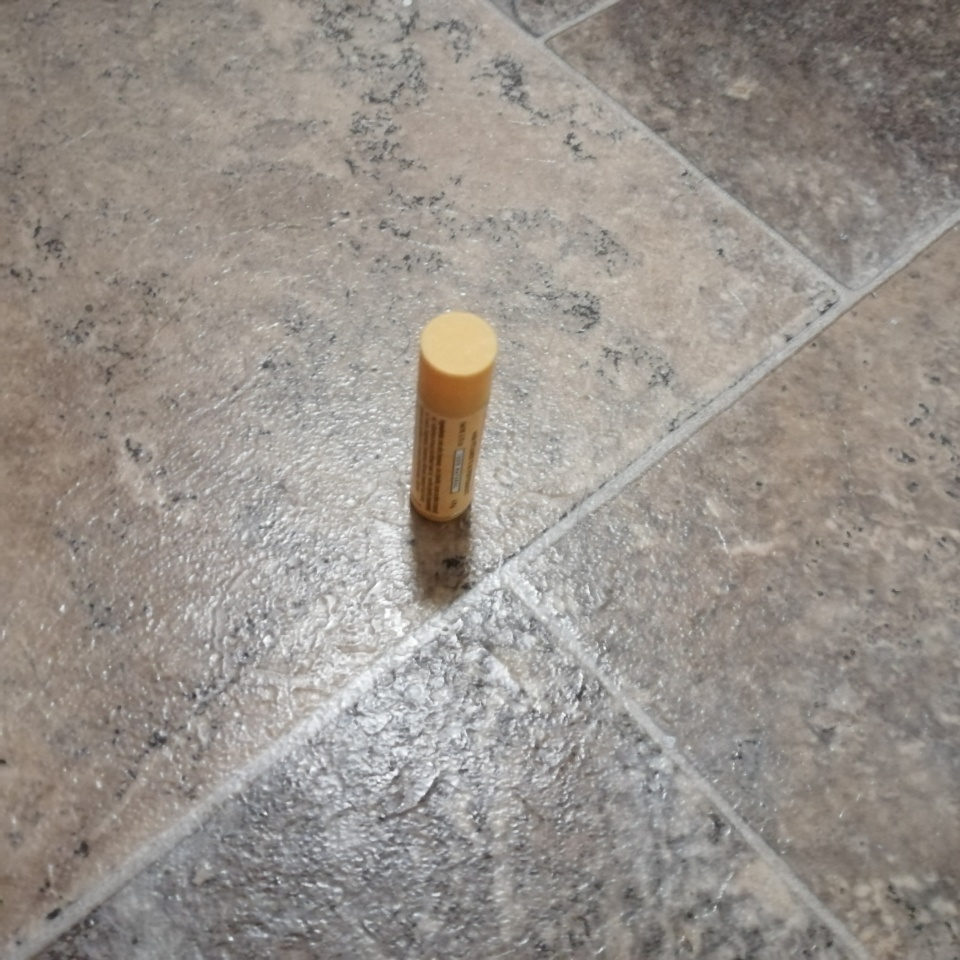chapstick: (409, 308, 497, 518)
